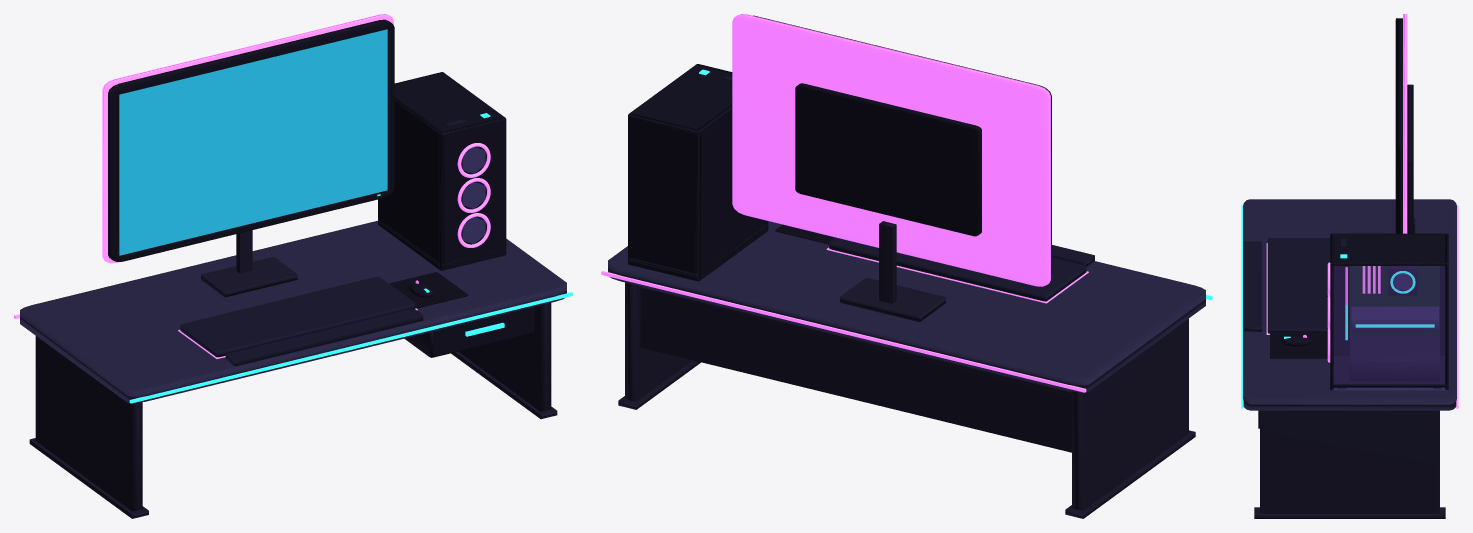
Rendered from mesa-pc.glb.
3 views of the same model, side by side, from view 1: azimuth 30°, elevation 25°; view 2: azimuth 150°, elevation 25°; view 3: azimuth 270°, elevation 25° (orthographic). The views are drawn at different scales.
Parts seen in each view (by area): view 1: Tela, Tampo, Pe_E, Moldura_Monitor, Base_Teclado, Gabinete_Lateral, Gabinete_Frente, Pe_D, Gabinete_Topo, Apoio_Pulso, Brilho_Monitor, Frente_Gaveta (+6 smaller); view 2: Brilho_Monitor, Tampo, Painel_Fundo, Traseira_Monitor, Pe_E, Gabinete_Tras, Gabinete_Lateral, Gabinete_Topo, Base_Teclado, Pe_D, Base_Monitor, Fita_LED_Mesa_Tras (+3 smaller); view 3: Pe_D, Tampo, Vidro_Lateral, Base_Teclado, Fonte, Gabinete_Topo, Placa_Mae, Gabinete_Lateral, GPU, Moldura_Monitor, Apoio_Pulso, Gabinete_Fundo (+11 smaller).
Boxes of the visible parts, x1,y1,x2,y2 form: Tela: (119, 29, 387, 255); Tampo: (20, 220, 566, 403); Pe_E: (35, 336, 142, 511); Moldura_Monitor: (108, 19, 394, 261); Base_Teclado: (180, 276, 415, 357); Gabinete_Lateral: (378, 97, 444, 270); Gabinete_Frente: (439, 117, 506, 270); Pe_D: (458, 303, 551, 411); Gabinete_Topo: (394, 72, 505, 135); Apoio_Pulso: (225, 308, 423, 366); Brilho_Monitor: (102, 14, 393, 263); Frente_Gaveta: (433, 307, 534, 356); Brilho_Monitor: (732, 14, 1050, 286); Tampo: (608, 221, 1205, 392); Painel_Fundo: (640, 286, 1071, 452); Traseira_Monitor: (795, 83, 981, 236); Pe_E: (1072, 318, 1188, 510); Gabinete_Tras: (628, 113, 700, 281); Gabinete_Lateral: (695, 104, 768, 281); Gabinete_Topo: (628, 64, 732, 134); Base_Teclado: (829, 237, 1086, 301); Pe_D: (625, 282, 692, 401); Base_Monitor: (840, 277, 945, 322); Fita_LED_Mesa_Tras: (601, 271, 1086, 392); Pe_D: (1260, 410, 1439, 513); Tampo: (1243, 199, 1456, 410); Vidro_Lateral: (1333, 266, 1445, 389); Base_Teclado: (1267, 238, 1330, 333); Fonte: (1350, 335, 1439, 381); Gabinete_Topo: (1330, 235, 1448, 265); Placa_Mae: (1350, 266, 1439, 335); Gabinete_Lateral: (1333, 233, 1447, 356); GPU: (1351, 306, 1438, 331); Moldura_Monitor: (1395, 18, 1402, 233); Apoio_Pulso: (1244, 241, 1261, 331); Gabinete_Fundo: (1332, 356, 1447, 387).
Size of the model in its own units: 4.22 by 3.32 by 1.93.
